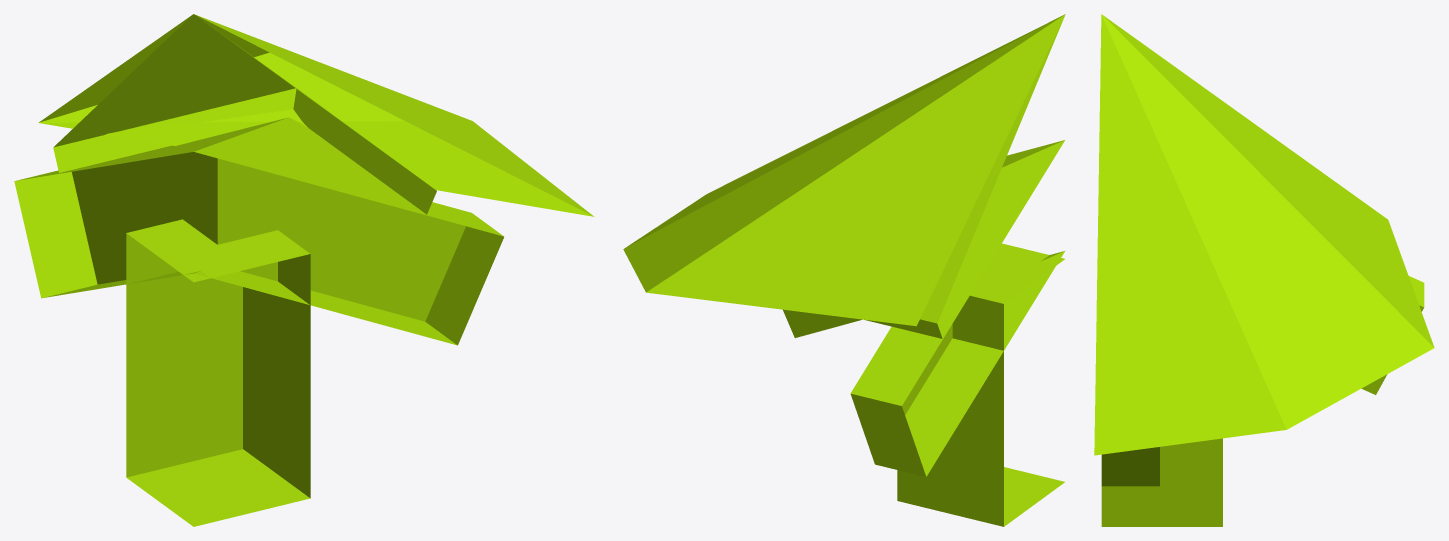
Rendered from WallKit_Hip_End_COL.fbx.
3 renders of one model, left to right at view 1: azimuth 30°, elevation 25°; view 2: azimuth 150°, elevation 25°; view 3: azimuth 270°, elevation 25°, orthographic. The views are drawn at different scales.
Visible parts, largest first — view 1: WallKit_Hip_End_COL; view 2: WallKit_Hip_End_COL; view 3: WallKit_Hip_End_COL.
Part boxes in pixels (x1,y1,x2,y2): WallKit_Hip_End_COL: (14, 14, 594, 526); WallKit_Hip_End_COL: (623, 14, 1065, 526); WallKit_Hip_End_COL: (1094, 14, 1434, 526).
Size of the model in its own units: 70.42 by 86.93 by 58.07.
